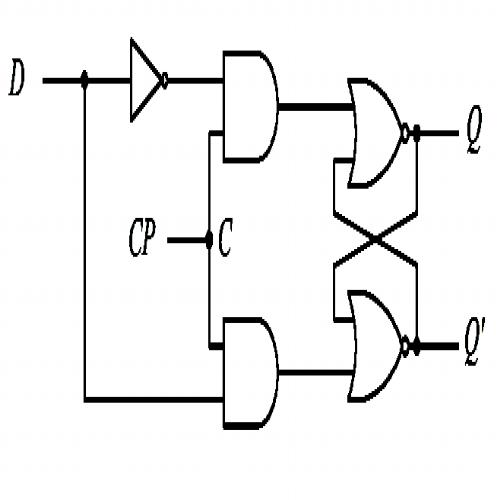and: (220, 308, 282, 437), (220, 41, 282, 167)
nor: (344, 68, 412, 196), (344, 280, 412, 408)
not: (125, 28, 171, 131)
